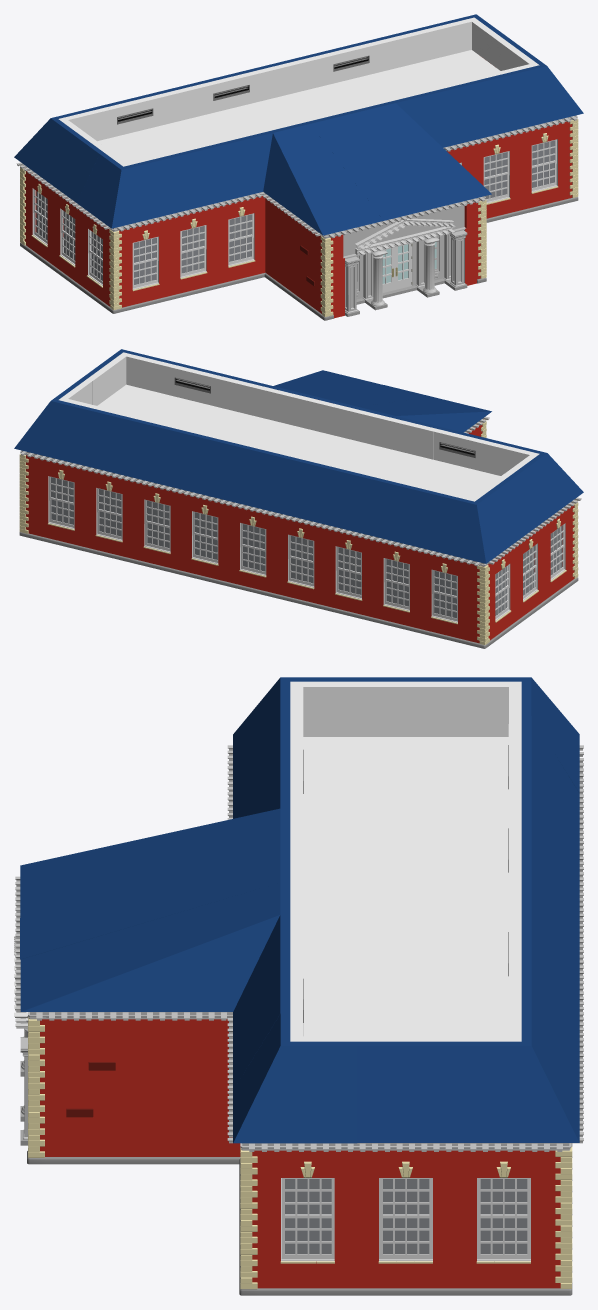
The model's file is HistoriaLevel2.fbx.
3 renders of one model, top to bottom at view 1: azimuth 30°, elevation 25°; view 2: azimuth 150°, elevation 25°; view 3: azimuth 270°, elevation 25°, orthographic. The views are drawn at different scales.
Visible parts, largest first — view 1: LajeChao.002, TelhadoCantoBase.004, ParedeJanelaRodape.005, TelhadoCantoBase.003, TelhadoMeioBase.006, ParedeJanelaRodape.009, TelhadoCantoBase.016, ParedeJanelaRodape.006, ParedePortaJanela.001, ParedeLisaRodape.003, TelhadoCantoBase.012, TelhadoCantoBase.014 (+43 smaller); view 2: ParedeJanelaRodape.007, TelhadoMeioBase.011, LajeChao.002, CortinaJanelaRodape.007, LajeMeioCanto.012, JanelaMediaRodape.007, TelhadoCantoBase.017, ParedeJanelaRodape.006, TelhadoCantoBase.018, TelhadoCantoBase.004, LajeCanto.006, RodapeMeio.011 (+19 smaller); view 3: LajeChao.002, ParedeJanelaRodape.008, ParedeLisaRodape.004, TelhadoCantoBase.003, TelhadoMeioBase.011, TelhadoCantoBase.018, TelhadoCantoBase.015, TelhadoCantoBase.004, TelhadoMeioBase.006, TelhadoMeioBase.010, CortinaJanelaRodape.008, JanelaMediaRodape.008 (+21 smaller).
Part boxes in pixels (x1,y1,x2,y2): LajeChao.002: (97,50,500,162); TelhadoCantoBase.004: (263,122,383,235); ParedeJanelaRodape.005: (122,196,265,307); TelhadoCantoBase.003: (356,101,491,208); TelhadoMeioBase.006: (308,110,431,220); ParedeJanelaRodape.009: (447,121,568,218); TelhadoCantoBase.016: (77,153,171,228); ParedeJanelaRodape.006: (26,170,109,305); ParedePortaJanela.001: (332,202,477,318); ParedeLisaRodape.003: (265,197,320,312); TelhadoCantoBase.012: (204,131,272,201); TelhadoCantoBase.014: (393,85,475,147); ParedeJanelaRodape.007: (37,458,468,640); TelhadoMeioBase.011: (82,410,434,546); LajeChao.002: (97,384,500,497); CortinaJanelaRodape.007: (51,477,456,618); LajeMeioCanto.012: (217,376,436,459); JanelaMediaRodape.007: (48,476,457,622); TelhadoCantoBase.017: (418,488,520,563); ParedeJanelaRodape.006: (489,505,571,640); TelhadoCantoBase.018: (14,385,98,465); TelhadoCantoBase.004: (356,396,491,432); LajeCanto.006: (92,352,171,404); RodapeMeio.011: (37,535,468,644); LajeChao.002: (303,737,508,1036); ParedeJanelaRodape.008: (259,1150,552,1288); ParedeLisaRodape.004: (46,1019,240,1156); TelhadoCantoBase.003: (20,882,290,1011); TelhadoMeioBase.011: (521,716,579,1082); TelhadoCantoBase.018: (455,1006,579,1142); TelhadoCantoBase.015: (233,1013,357,1143); TelhadoCantoBase.004: (20,808,290,917); TelhadoMeioBase.006: (20,841,290,959); TelhadoMeioBase.010: (357,1041,455,1142); CortinaJanelaRodape.008: (285,1179,527,1253); JanelaMediaRodape.008: (281,1178,530,1260).
Bounding box in the file's own units: 993 × 261 × 579.
